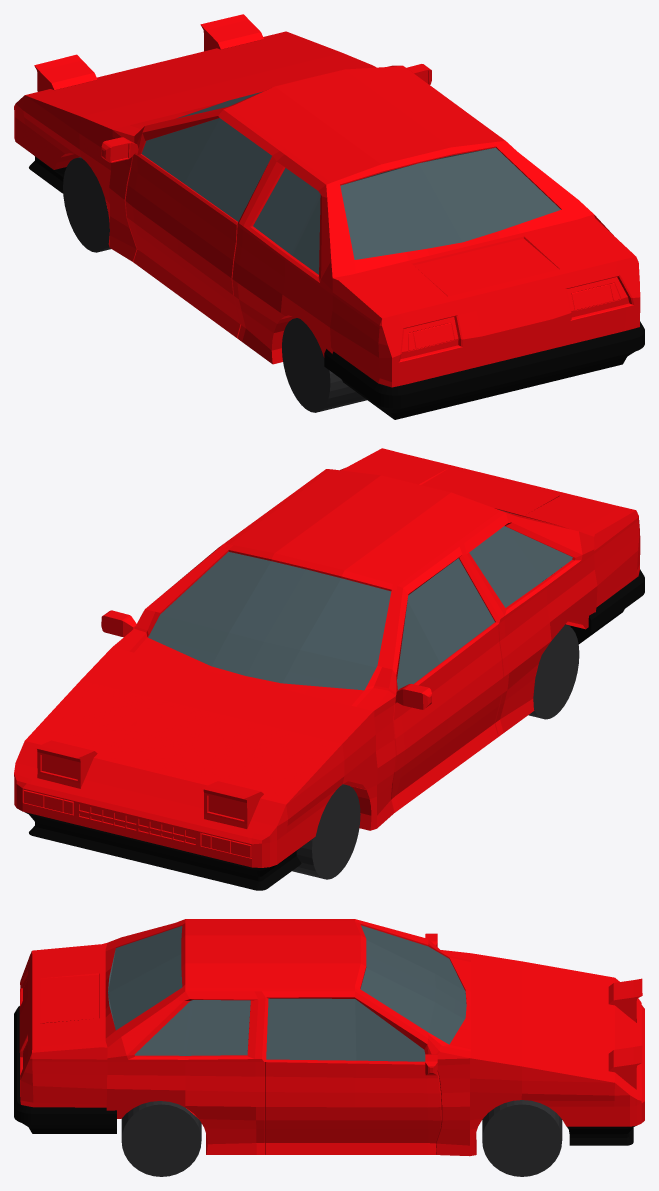
The model's file is ToyotaHighPolyCollider5.fbx.
The picture shows the model from 3 angles, top to bottom: view 1: azimuth 30°, elevation 25°; view 2: azimuth 150°, elevation 25°; view 3: azimuth 270°, elevation 25°; orthographic projection. The views are drawn at different scales.
Visible parts, largest first — view 1: Car_Collider; view 2: Car_Collider; view 3: Car_Collider.
Part boxes in pixels (<box>): Car_Collider: <box>14,14,644,419</box>; Car_Collider: <box>14,448,644,890</box>; Car_Collider: <box>14,919,644,1176</box>.
Size of the model in its own units: 146 by 90.57 by 296.
